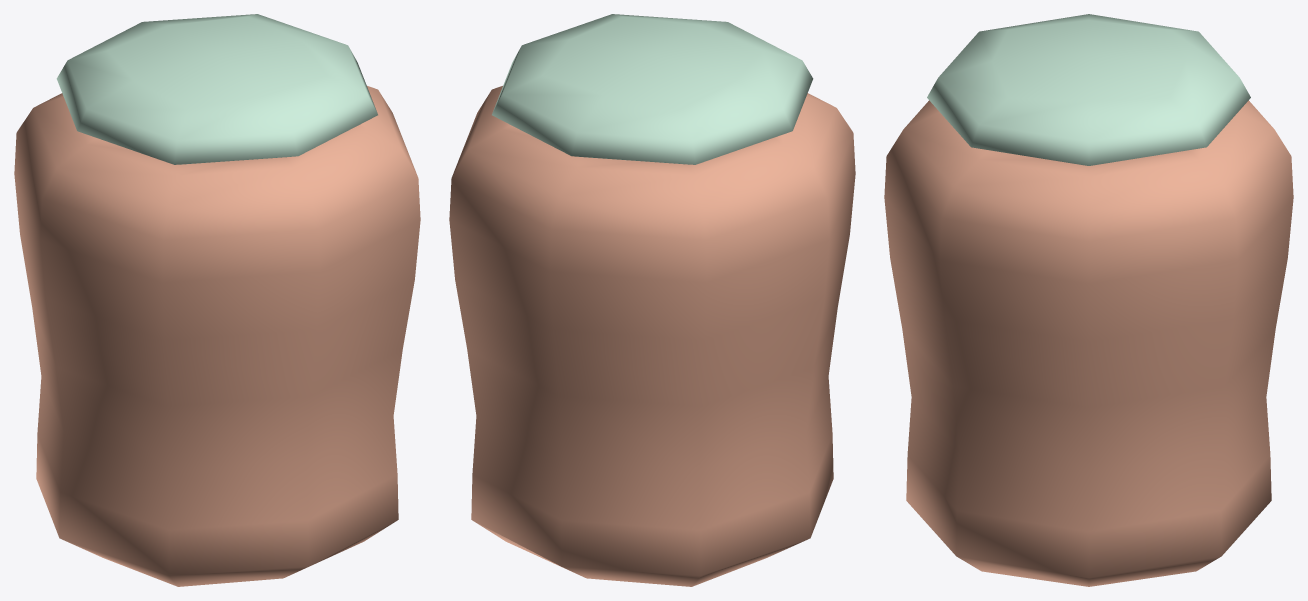
File: cookiejar.fbx
3 views of the same model, side by side, from view 1: azimuth 30°, elevation 25°; view 2: azimuth 150°, elevation 25°; view 3: azimuth 270°, elevation 25° (orthographic).
Visible parts, largest first — view 1: Cube.027, Cube.028; view 2: Cube.027, Cube.028; view 3: Cube.027, Cube.028.
Part boxes in pixels (x1,y1,x2,y2): Cube.027: (14, 86, 420, 586); Cube.028: (56, 14, 377, 164); Cube.027: (449, 86, 855, 586); Cube.028: (492, 14, 813, 164); Cube.027: (884, 100, 1293, 586); Cube.028: (927, 14, 1250, 165).
Size of the model in its own units: 62.23 by 81.82 by 62.23.
